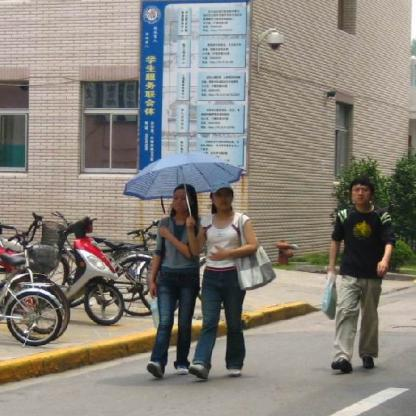person: (313, 171, 390, 377), (197, 182, 250, 379), (149, 187, 193, 374)
